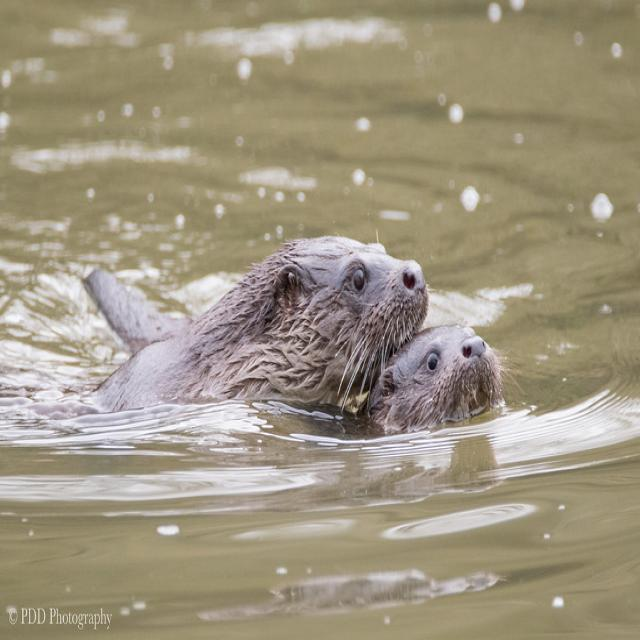otter: (177, 238, 431, 407), (370, 322, 503, 433)
